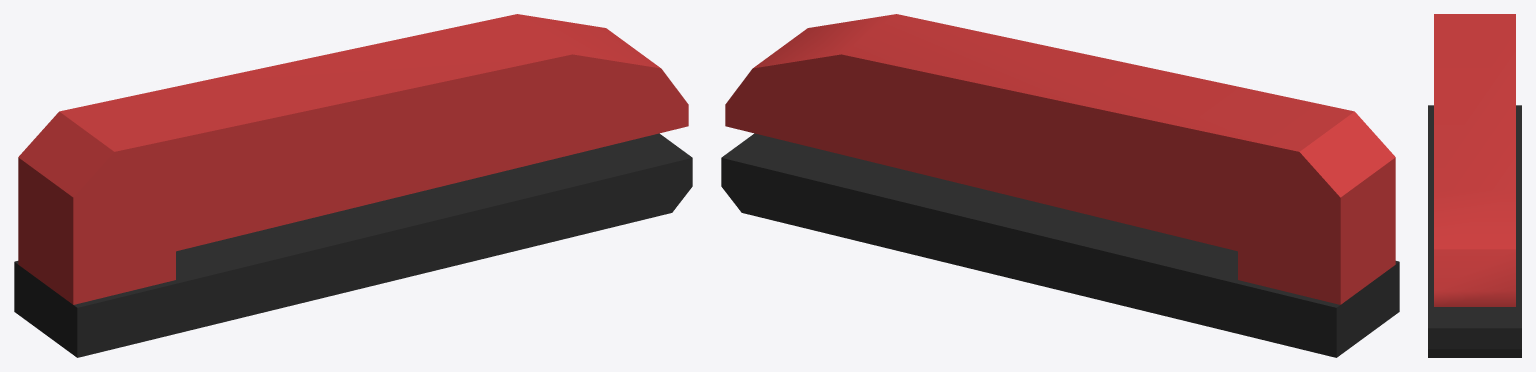
File: stapler.glb
The picture shows the model from 3 angles, left to right: view 1: azimuth 30°, elevation 25°; view 2: azimuth 150°, elevation 25°; view 3: azimuth 270°, elevation 25°; orthographic projection. The views are drawn at different scales.
Visible parts, largest first — view 1: stapler; view 2: stapler; view 3: stapler.
Boxes of the visible parts, x1,y1,x2,y2 form: stapler: [14, 14, 692, 357]; stapler: [721, 14, 1399, 357]; stapler: [1428, 14, 1521, 357].
Bounding box in the file's own units: 0.09 × 0.027 × 0.016.
